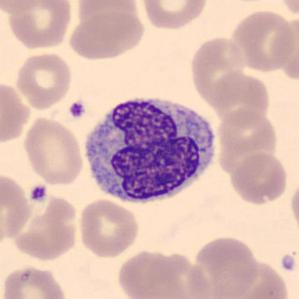Monocyte: (80, 89, 220, 209)
Platelets: (28, 182, 49, 204), (68, 99, 87, 120), (280, 252, 298, 274)
RBC: (10, 191, 82, 263), (21, 114, 86, 187), (188, 233, 260, 298), (227, 7, 296, 74), (66, 6, 147, 61), (187, 34, 246, 108), (76, 197, 142, 259), (13, 50, 74, 111), (215, 107, 279, 165), (140, 249, 214, 299), (4, 0, 74, 51), (228, 150, 290, 207), (212, 68, 272, 126), (210, 257, 292, 299), (115, 247, 181, 299), (0, 262, 70, 299), (0, 170, 32, 245), (0, 78, 32, 147), (138, 0, 209, 31), (0, 0, 45, 15), (288, 176, 299, 236), (275, 0, 299, 19)
